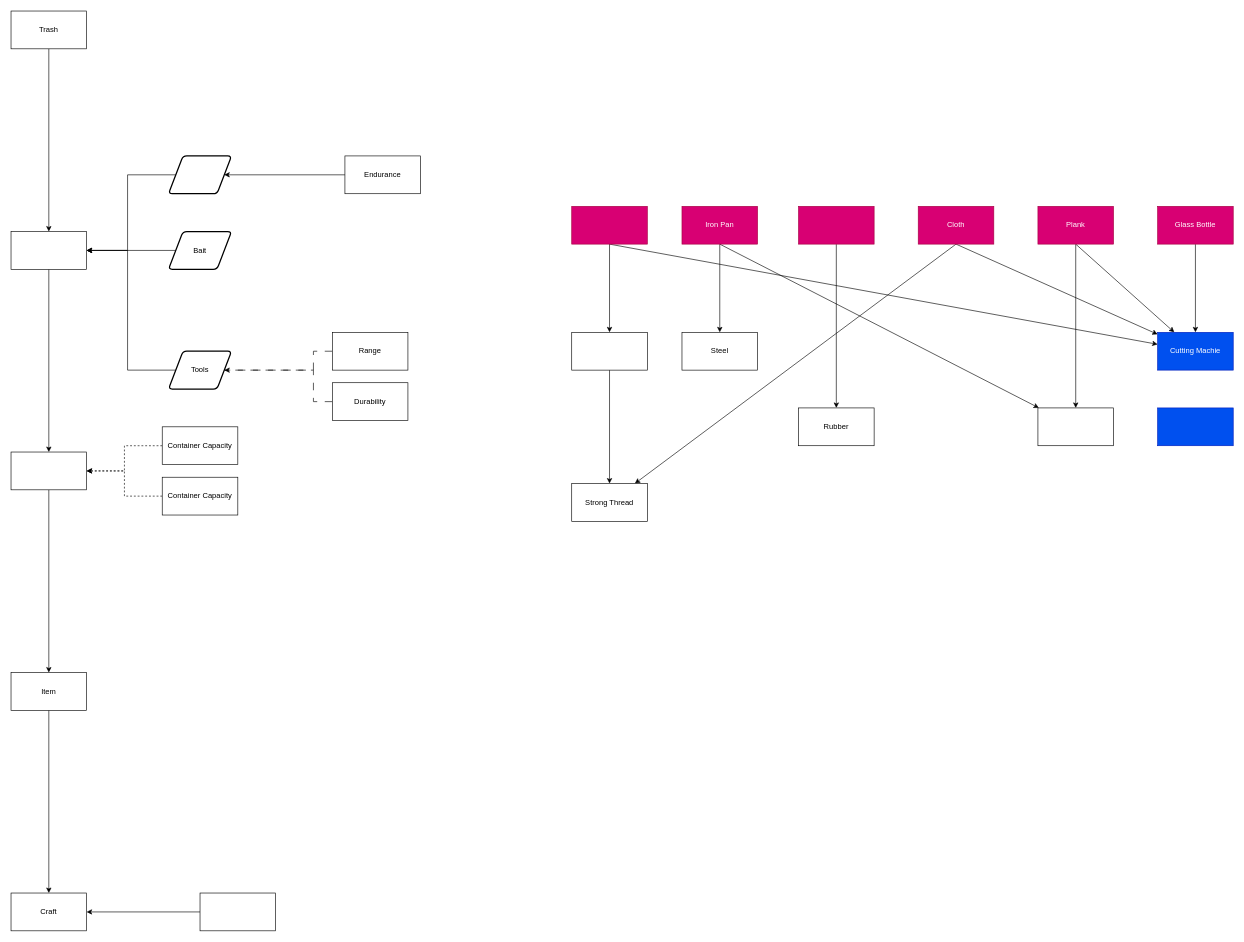
Some shapes in this 1244 by 942 pixel diagram are drawn without their labels. The shapes that lost their labels are listed below. From the top down, each one's centre as x and y in pixels, then its label:
At (x=200, y=174): "Energy".
At (x=609, y=225): "Plastic Bottle".
At (x=836, y=225): "Old Tire".
At (x=48, y=250): "Fishing".
At (x=609, y=351): "Plastic Thread".
At (x=1075, y=426): "Cart Container".
At (x=1195, y=426): "Press Macbine".
At (x=48, y=470): "Inventory".
At (x=237, y=911): "Blueprint".
